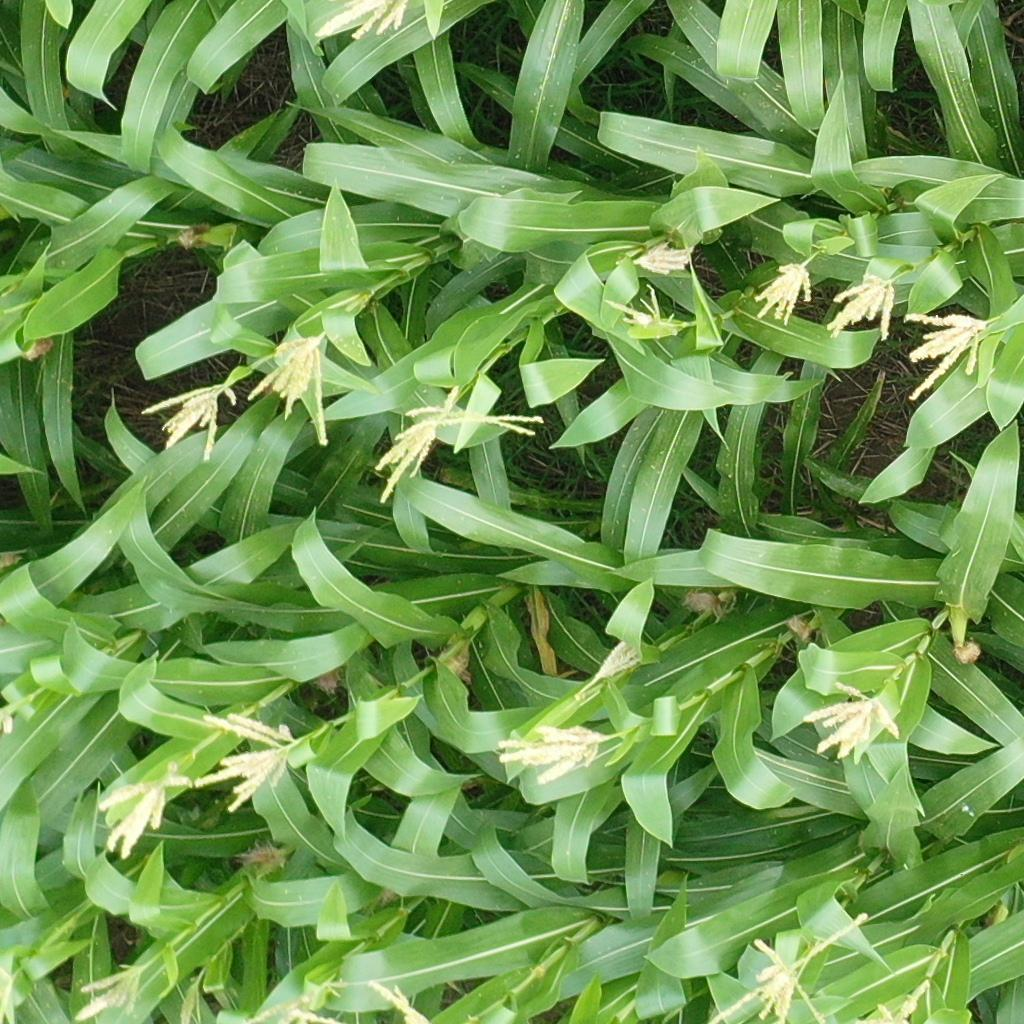Tassel: (372, 384, 546, 507), (704, 913, 872, 1024), (198, 711, 303, 814), (94, 762, 194, 862), (248, 336, 336, 446), (896, 310, 999, 400), (134, 381, 241, 466), (801, 681, 901, 763), (483, 720, 613, 782), (249, 976, 350, 1024), (826, 273, 896, 342), (70, 962, 143, 1022), (748, 262, 815, 327), (315, 1, 412, 42), (604, 286, 681, 332), (363, 979, 439, 1024), (630, 242, 692, 281), (853, 991, 922, 1024), (593, 640, 639, 681), (1, 965, 20, 1024), (180, 980, 204, 1024)
